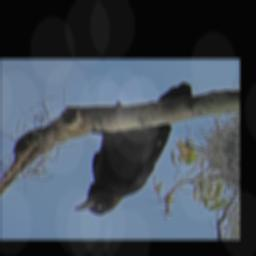Crow: (74, 81, 193, 215)
